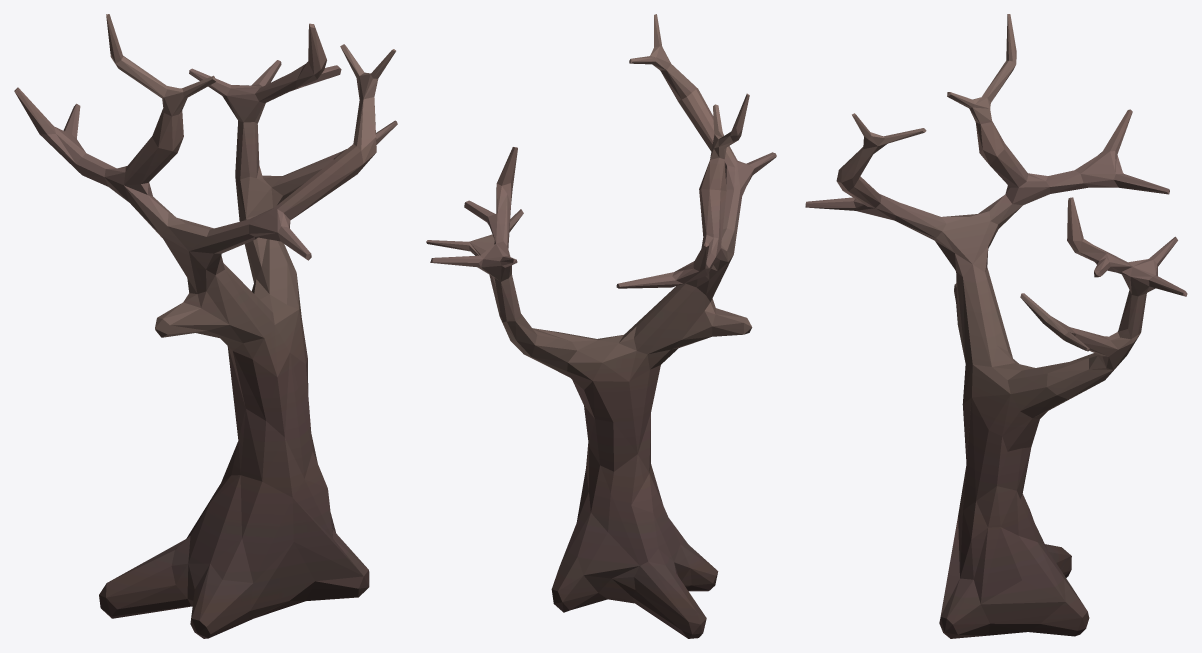
Rendered from tree-3.glb.
3 views of the same model, side by side, from view 1: azimuth 30°, elevation 25°; view 2: azimuth 150°, elevation 25°; view 3: azimuth 270°, elevation 25° (orthographic). The views are drawn at different scales.
Visible parts, largest first — view 1: tree3; view 2: tree3; view 3: tree3.
Part boxes in pixels (x1,y1,x2,y2): tree3: [14, 14, 397, 638]; tree3: [426, 14, 776, 638]; tree3: [805, 14, 1187, 638].
Size of the model in its own units: 3.35 by 5.65 by 3.55.
Materials: 1 (1 with a texture image).
